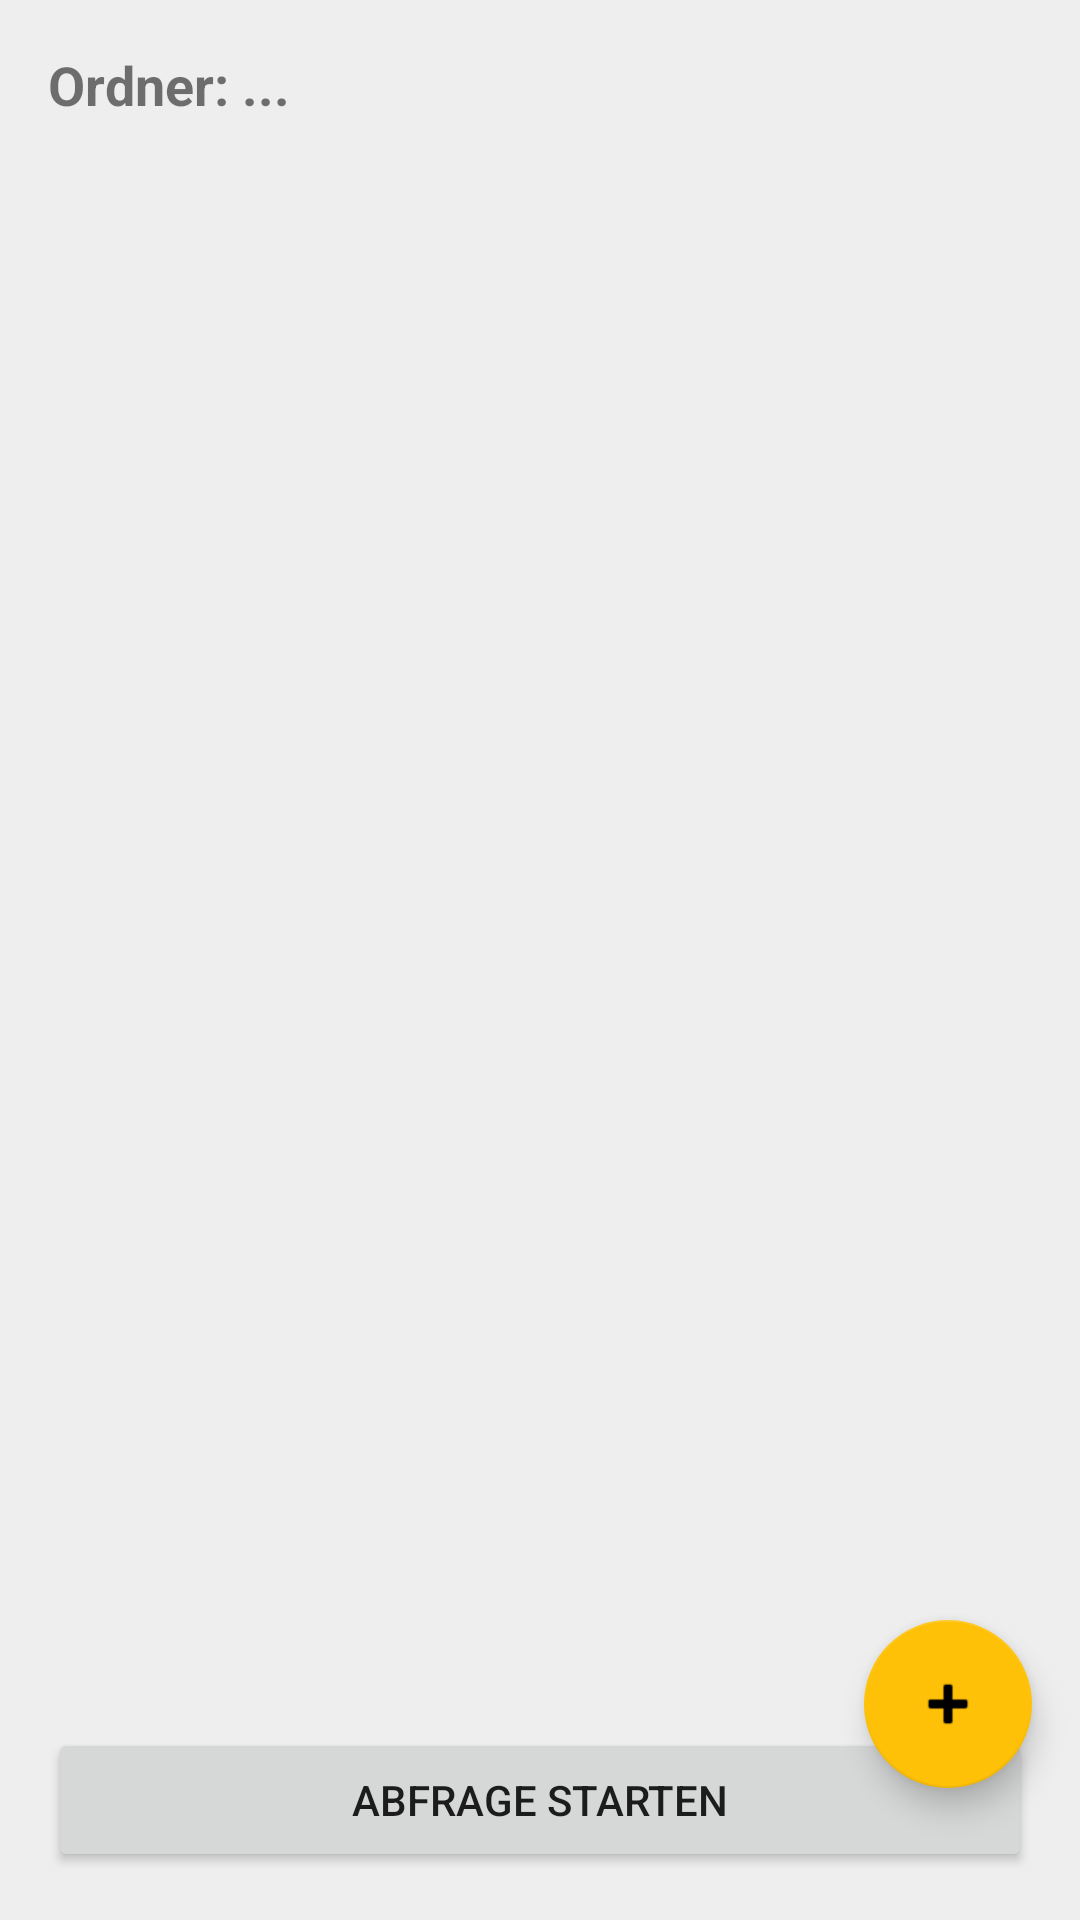

Screen size 1080 × 1920. Icon name, then its box in pixels as (x1=x1, y1=y1, x2=x2, y2=y2):
Frage hinzufügen: (x1=864, y1=1620, x2=1032, y2=1788)
